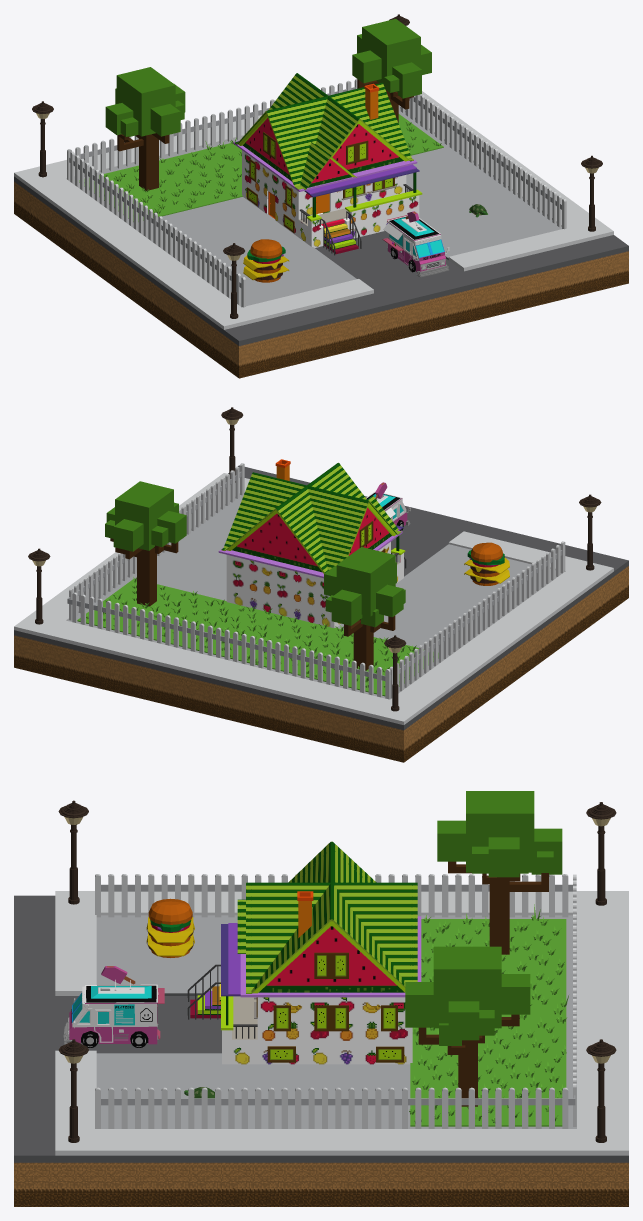
3 views of the same model, one above another, from view 1: azimuth 30°, elevation 25°; view 2: azimuth 150°, elevation 25°; view 3: azimuth 270°, elevation 25° (orthographic). The views are drawn at different scales.
Visible parts, largest first — view 1: Cube.004, Cube.1063, VEHICLES_ICE_CREAM_TRUCK, OBJRANDOM_HAMBURGER; view 2: Cube.004, Cube.1063, OBJRANDOM_HAMBURGER, VEHICLES_ICE_CREAM_TRUCK; view 3: Cube.004, Cube.1063, VEHICLES_ICE_CREAM_TRUCK, OBJRANDOM_HAMBURGER.
Boxes of the visible parts, x1,y1,x2,y2 form: Cube.004: (14,14,628,378); Cube.1063: (233,73,422,255); VEHICLES_ICE_CREAM_TRUCK: (382,211,449,277); OBJRANDOM_HAMBURGER: (243,239,289,282); Cube.004: (14,407,628,762); Cube.1063: (218,459,406,627); OBJRANDOM_HAMBURGER: (464,542,509,585); VEHICLES_ICE_CREAM_TRUCK: (366,482,410,530); Cube.004: (14,791,628,1206); Cube.1063: (187,841,421,1064); VEHICLES_ICE_CREAM_TRUCK: (63,966,164,1047); OBJRANDOM_HAMBURGER: (146,898,194,957).
Size of the model in its own units: 4000 by 1753 by 4000.
Materials: 46 (5 with a texture image).
